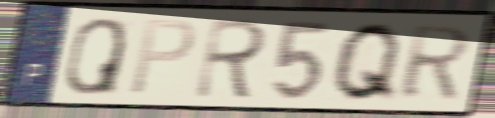5: (267, 19, 336, 102)
P: (127, 17, 199, 98)
Q: (328, 19, 405, 104), (62, 15, 129, 97)
R: (191, 16, 271, 102), (396, 24, 474, 102)
